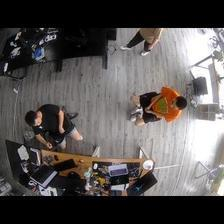normal: (24, 102, 86, 150), (127, 85, 188, 133)
